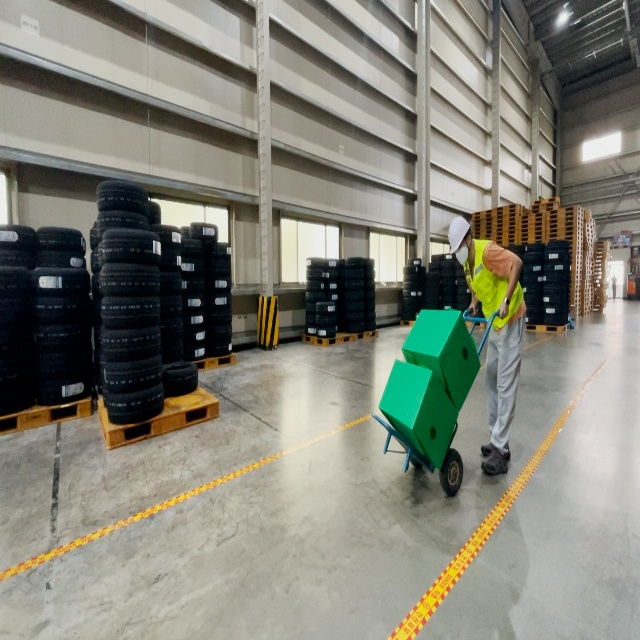Box: (377, 363, 460, 473), (401, 307, 482, 414)
Worker: (451, 219, 532, 486)
